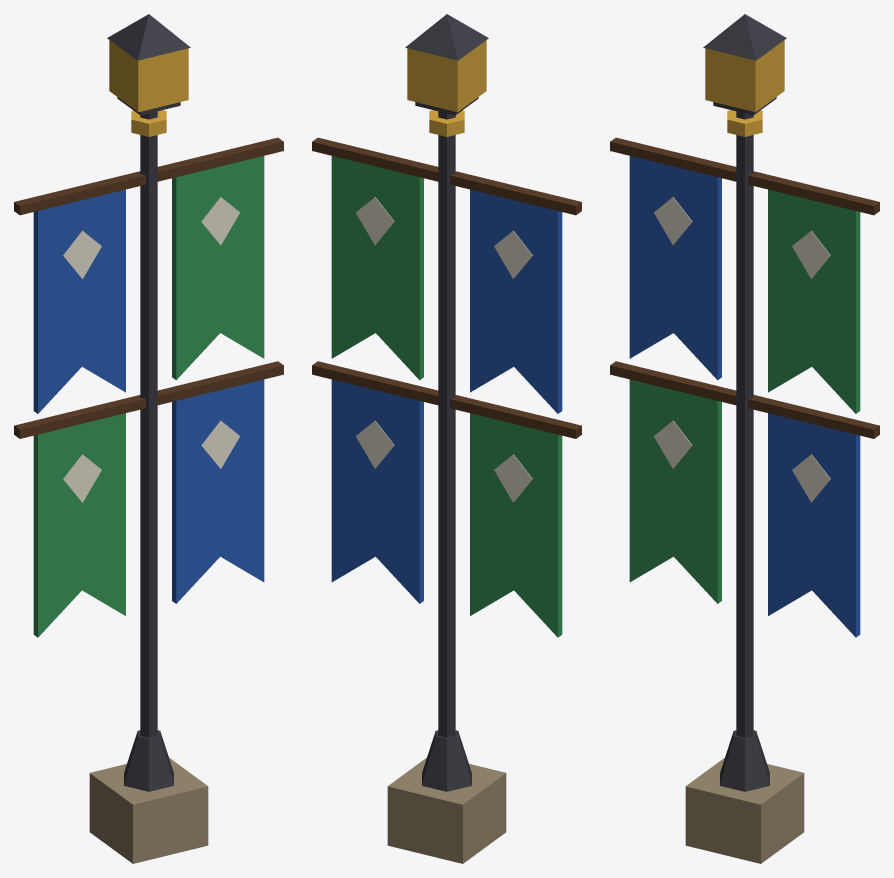
The model's file is Lamp_Post_Banner.fbx.
3 renders of one model, left to right at view 1: azimuth 30°, elevation 25°; view 2: azimuth 150°, elevation 25°; view 3: azimuth 330°, elevation 25°, orthographic.
Parts seen in each view (by area): view 1: Lamp_Post_Banner; view 2: Lamp_Post_Banner; view 3: Lamp_Post_Banner.
Boxes of the visible parts, bbox=[...] form: Lamp_Post_Banner: bbox=[14, 14, 283, 863]; Lamp_Post_Banner: bbox=[312, 14, 581, 863]; Lamp_Post_Banner: bbox=[610, 14, 879, 863].
Bounding box in the file's own units: 2.1 × 6.27 × 0.6.
